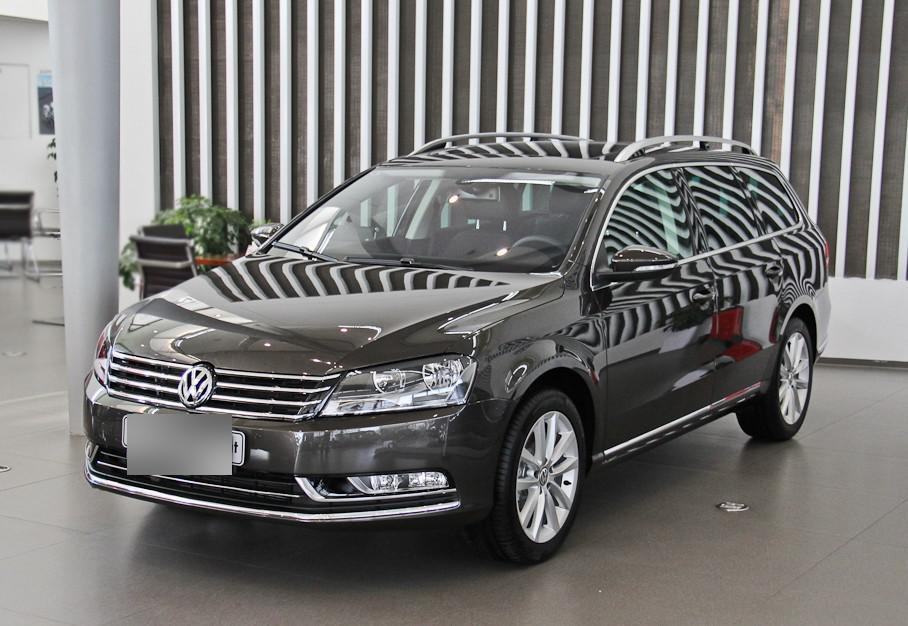Wagon: (80, 130, 833, 567)
